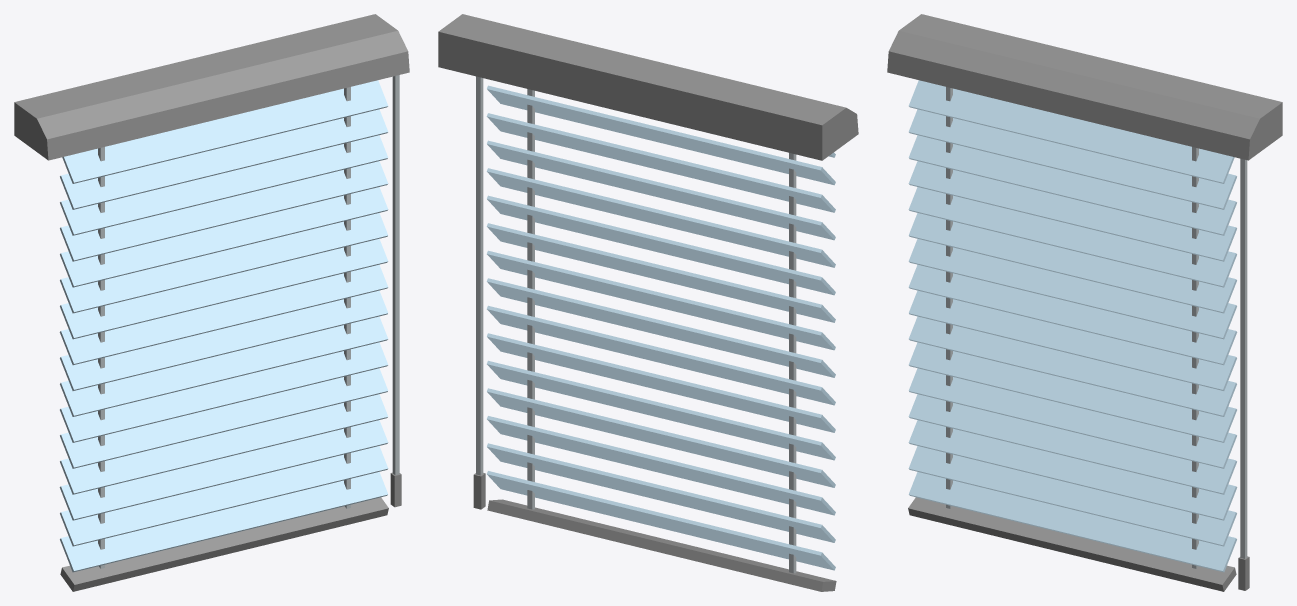
Rendered from Persiana.fbx.
3 renders of one model, left to right at view 1: azimuth 30°, elevation 25°; view 2: azimuth 150°, elevation 25°; view 3: azimuth 330°, elevation 25°, orthographic. The views are drawn at different scales.
Visible parts, largest first — view 1: Persiana; view 2: Persiana; view 3: Persiana.
Part boxes in pixels (<box>): Persiana: <box>14,14,409,591</box>; Persiana: <box>438,14,858,591</box>; Persiana: <box>887,14,1282,591</box>.
Size of the model in its own units: 117 by 146 by 20.8.
